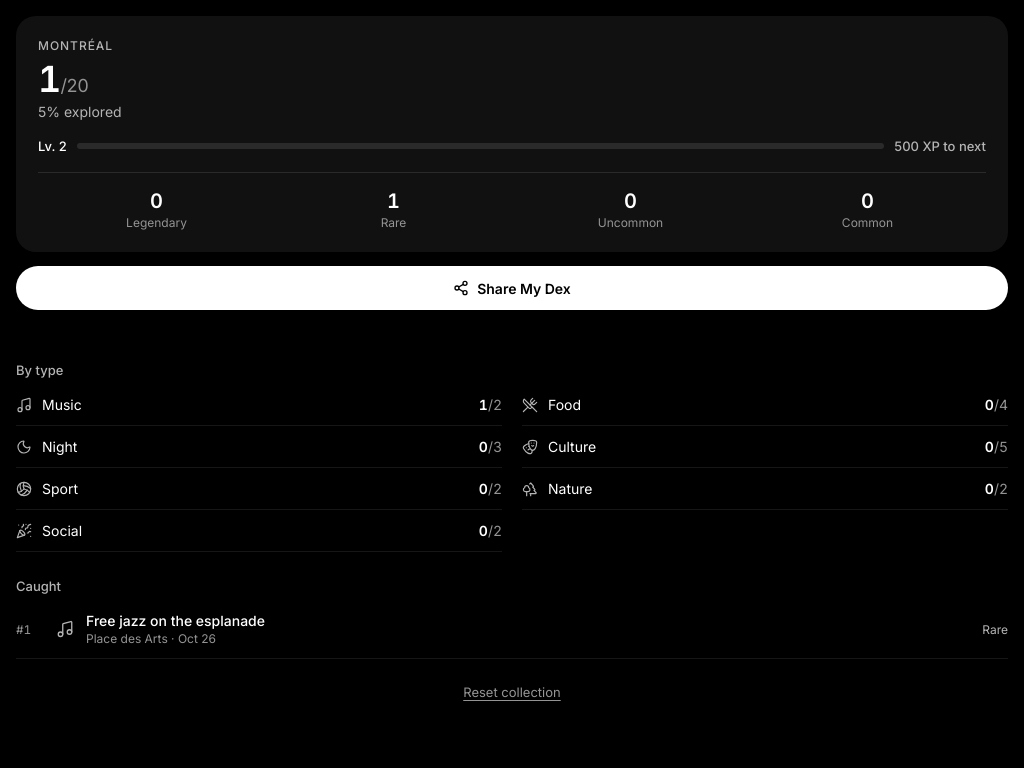
Test: DexView reset › asks for confirmation before erasing the collection
The image size is (1024, 768).
Later steps or results of the test are not shown.
Click the button "Reset collection".
click(512, 692)  # box [457,683,567,701]
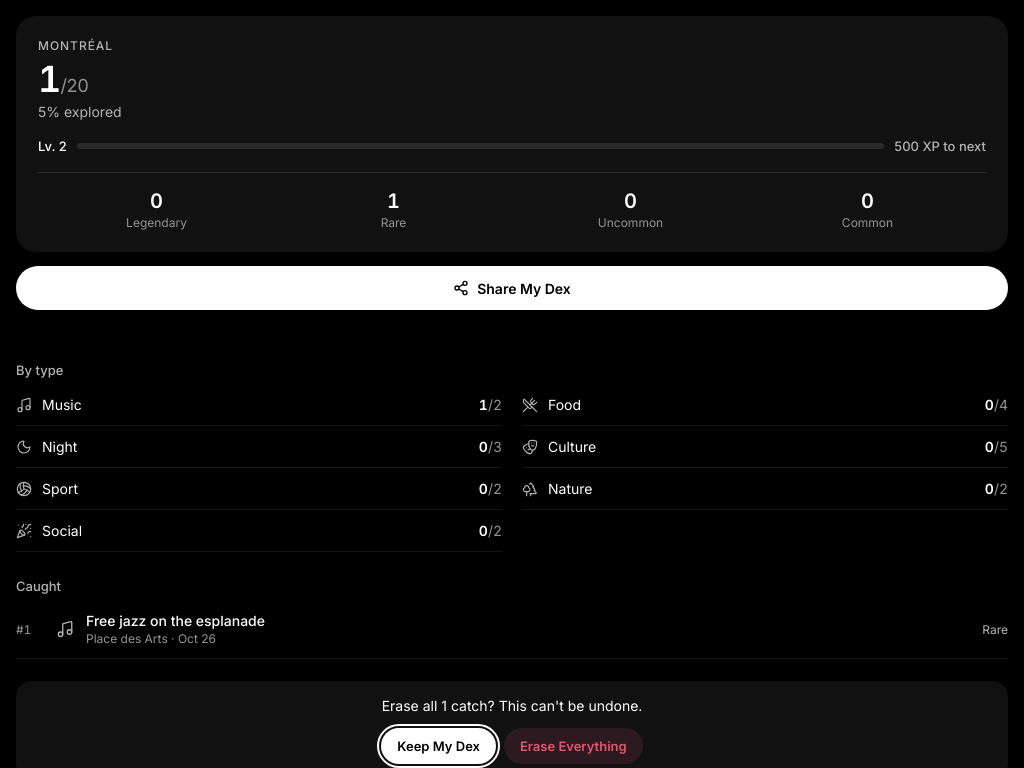
Check: the message shows "Erase all 1 catch?", box [16,681,1008,767]
